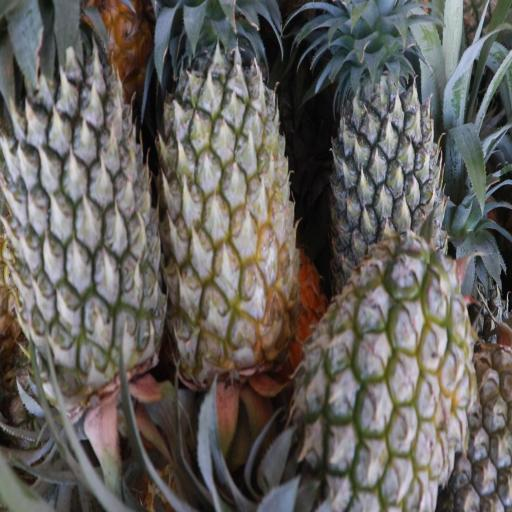------------------------------: (159, 14, 295, 380), (298, 256, 468, 508)
